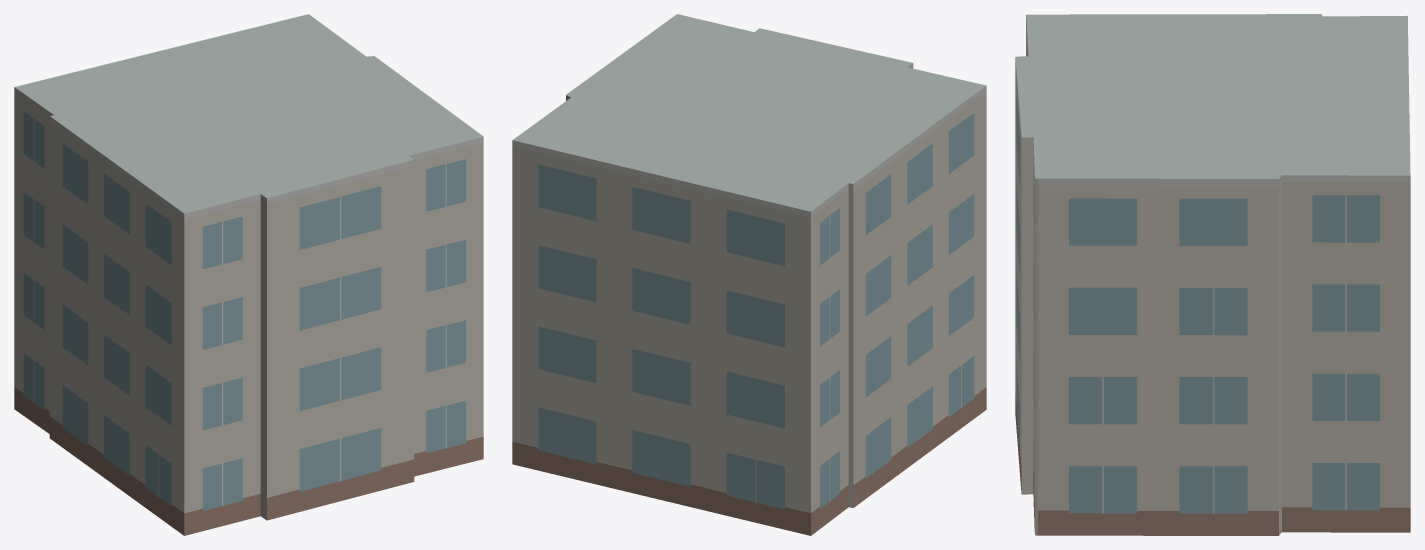
The model's file is survey-upis-32815973.glb.
3 renders of one model, left to right at view 1: azimuth 30°, elevation 25°; view 2: azimuth 150°, elevation 25°; view 3: azimuth 270°, elevation 25°, orthographic. The views are drawn at different scales.
Parts seen in each view (by area): view 1: survey-upis-32815973.tmp; view 2: survey-upis-32815973.tmp; view 3: survey-upis-32815973.tmp.
Part boxes in pixels (x1=…): survey-upis-32815973.tmp: x1=14, y1=14, x2=483, y2=535; survey-upis-32815973.tmp: x1=512, y1=14, x2=986, y2=535; survey-upis-32815973.tmp: x1=1015, y1=14, x2=1410, y2=535.
Size of the model in its own units: 13.59 by 13.7 by 13.76.
